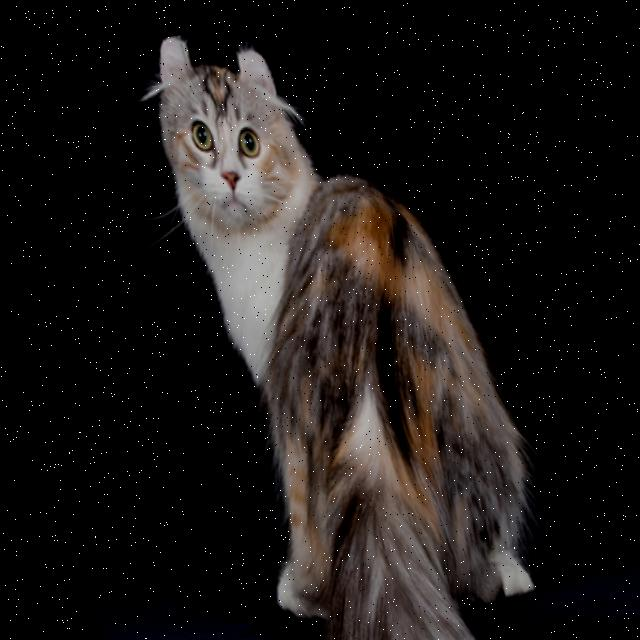American Curl: (114, 5, 571, 640)
